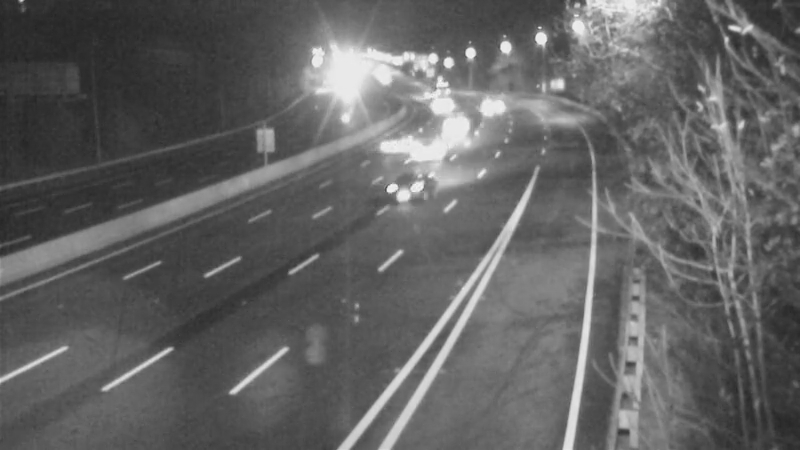vehicle: (363, 149, 443, 229), (419, 65, 469, 115), (402, 74, 452, 124), (418, 77, 468, 127), (462, 80, 512, 130), (433, 99, 483, 149), (373, 113, 423, 163), (413, 123, 463, 173)
